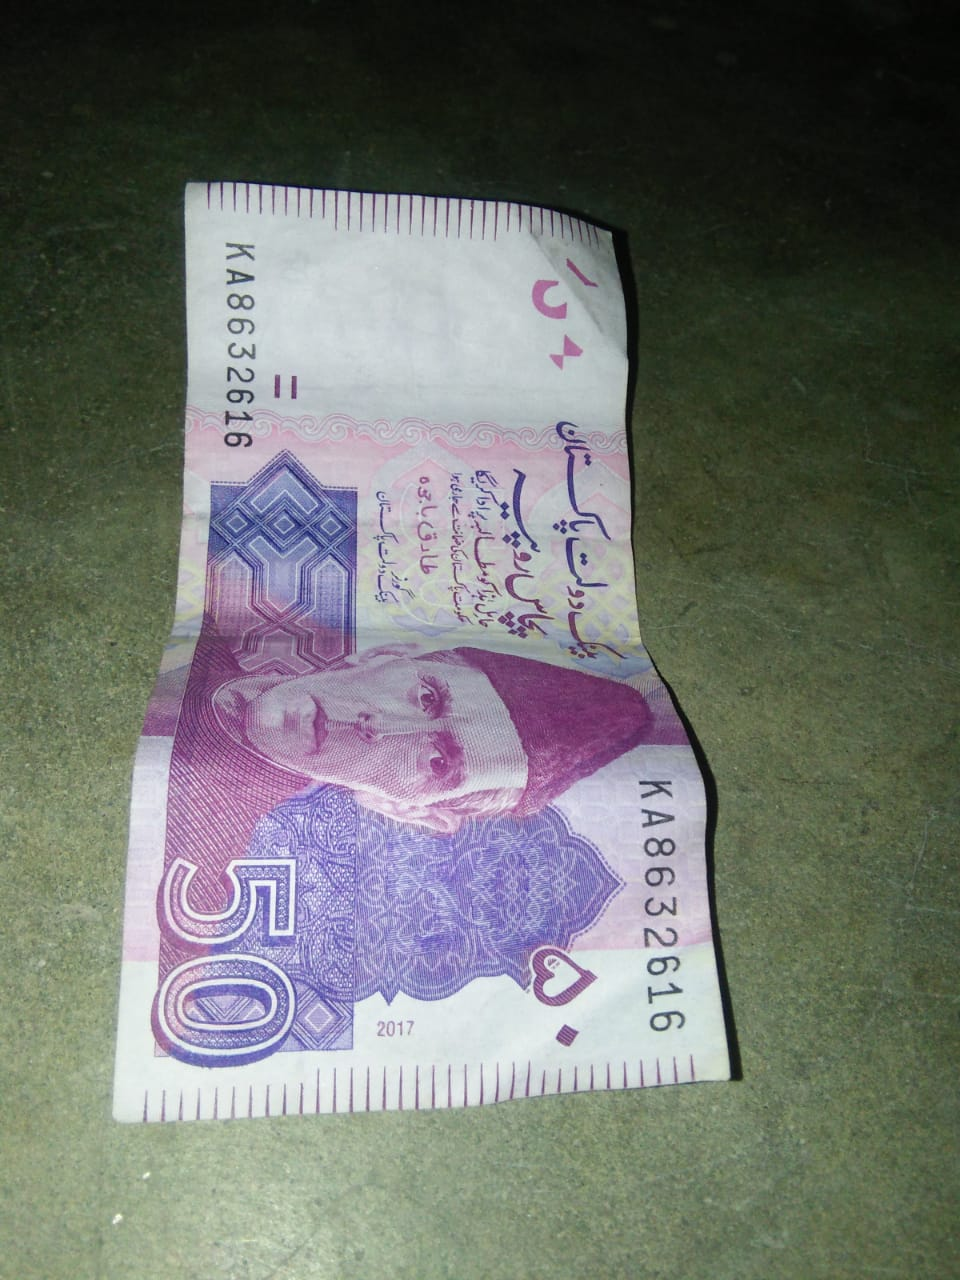50 rupee: (91, 139, 739, 1127)
